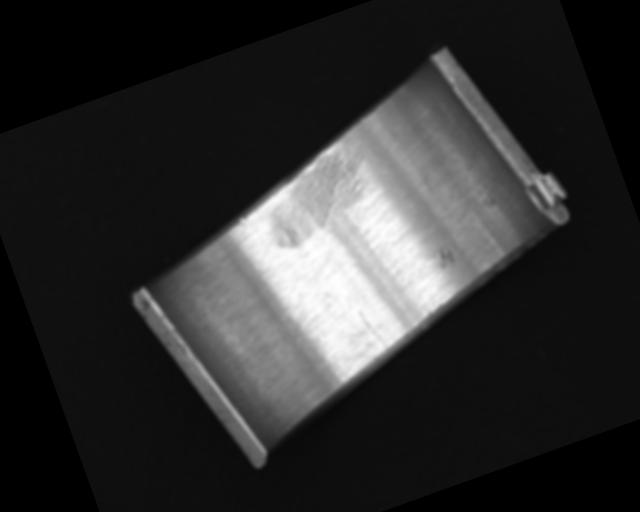bruise: (434, 245, 457, 271), (236, 215, 249, 227)
nick: (356, 305, 391, 357)
scratch: (249, 138, 385, 254)
